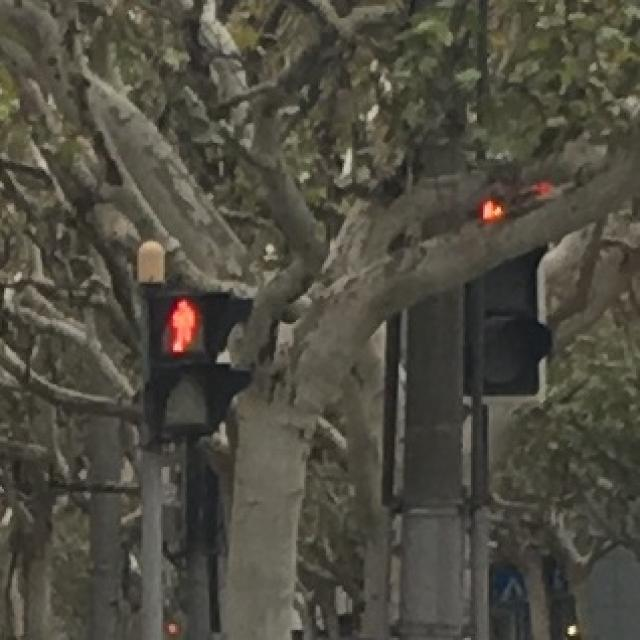red_light: (154, 290, 210, 354)
